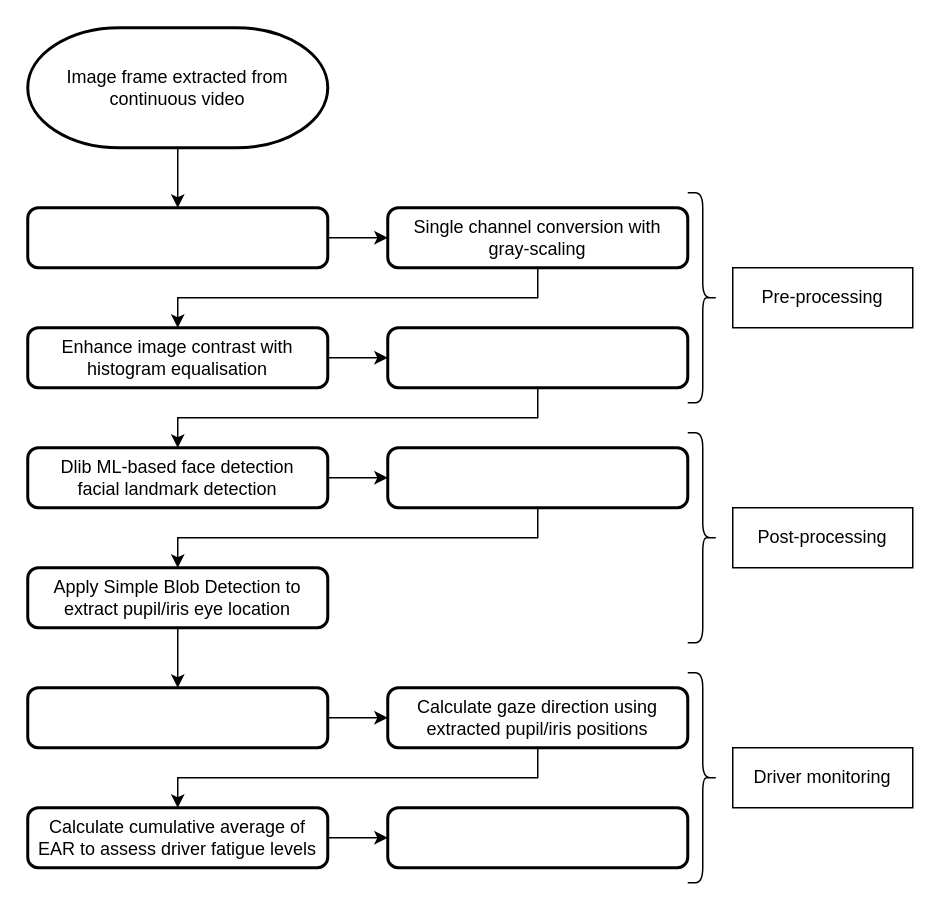
Image size: 939x909. Some labels were removed from this diagram. The shapes that lost their labels are listed below. From the top down, each one's centre as x and y in pixels, then its label:
[177,237]: Crop to reduce region of interest
[537,357]: Noise reduction & smoothening with Gaussian Blur
[537,477]: Apply binary invert threshold on eye detection
[177,717]: Calculate EAR using eye landmark positions
[537,837]: Calculate cumulative average of gaze direction for driver focus
